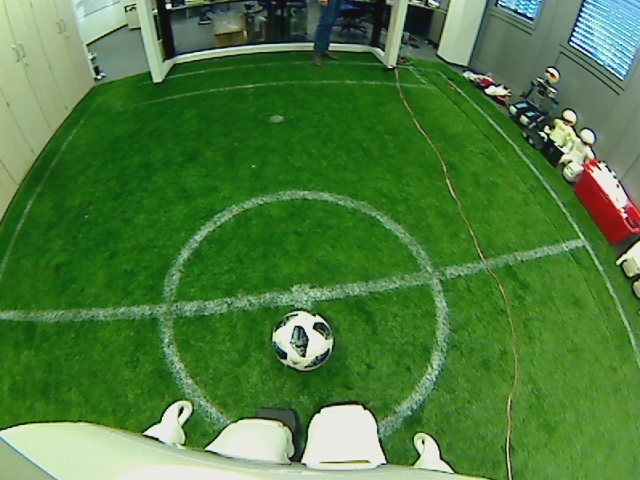ball: (269, 308, 333, 371)
